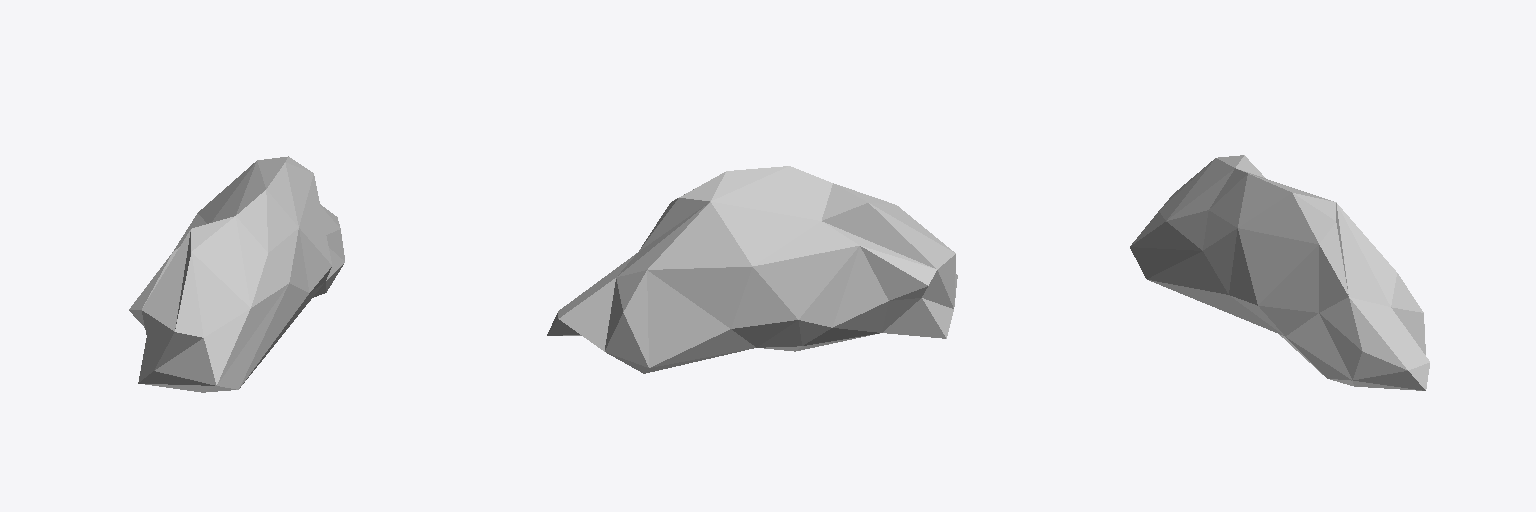
Rendered from Cloud4.obj.
3 views of the same model, side by side, from view 1: azimuth 30°, elevation 25°; view 2: azimuth 150°, elevation 25°; view 3: azimuth 270°, elevation 25° (orthographic).
Parts seen in each view (by area): view 1: Cloud4_Object_86_Object_41.001; view 2: Cloud4_Object_86_Object_41.001; view 3: Cloud4_Object_86_Object_41.001.
Boxes of the visible parts, x1,y1,x2,y2 form: Cloud4_Object_86_Object_41.001: [129, 156, 344, 392]; Cloud4_Object_86_Object_41.001: [547, 166, 957, 373]; Cloud4_Object_86_Object_41.001: [1130, 155, 1429, 390].
Size of the model in its own units: 1.39 by 0.7211 by 1.22.